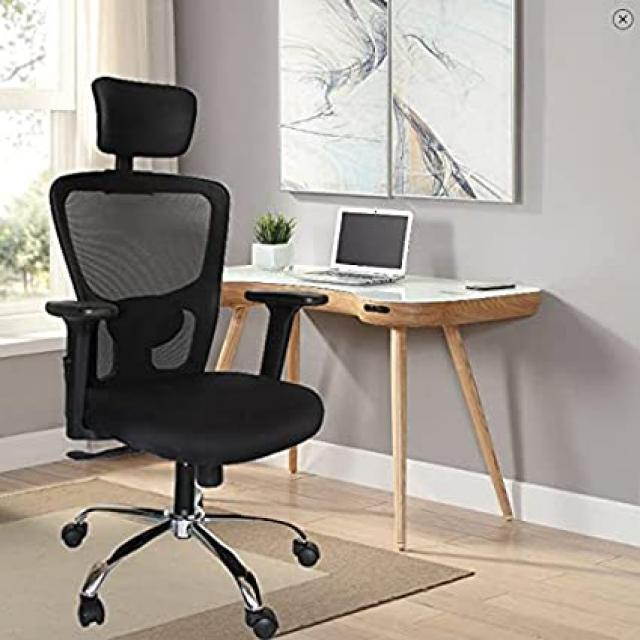chair: (41, 56, 334, 640)
